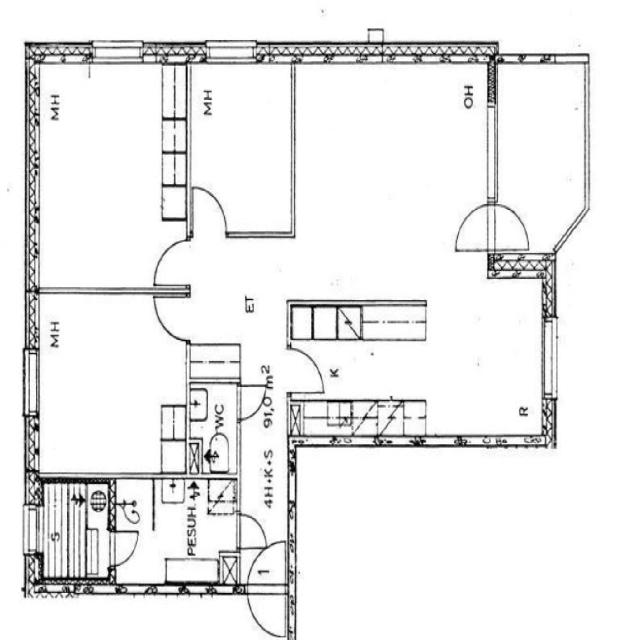door: (492, 55, 588, 256), (445, 196, 496, 256), (285, 342, 329, 400), (489, 198, 534, 254), (188, 181, 232, 238), (150, 234, 193, 290), (150, 287, 192, 344), (103, 528, 143, 572), (233, 509, 269, 552), (234, 378, 268, 423)
window: (34, 274, 158, 303), (536, 311, 564, 405), (481, 96, 504, 202), (17, 336, 44, 426), (16, 283, 42, 359), (89, 39, 149, 67), (202, 40, 262, 66), (282, 462, 300, 510)
zone: (27, 59, 188, 295), (28, 289, 192, 482), (188, 59, 298, 239), (492, 56, 588, 250), (111, 474, 241, 588), (29, 478, 116, 588), (243, 542, 291, 640), (188, 380, 238, 474), (233, 510, 270, 552)
